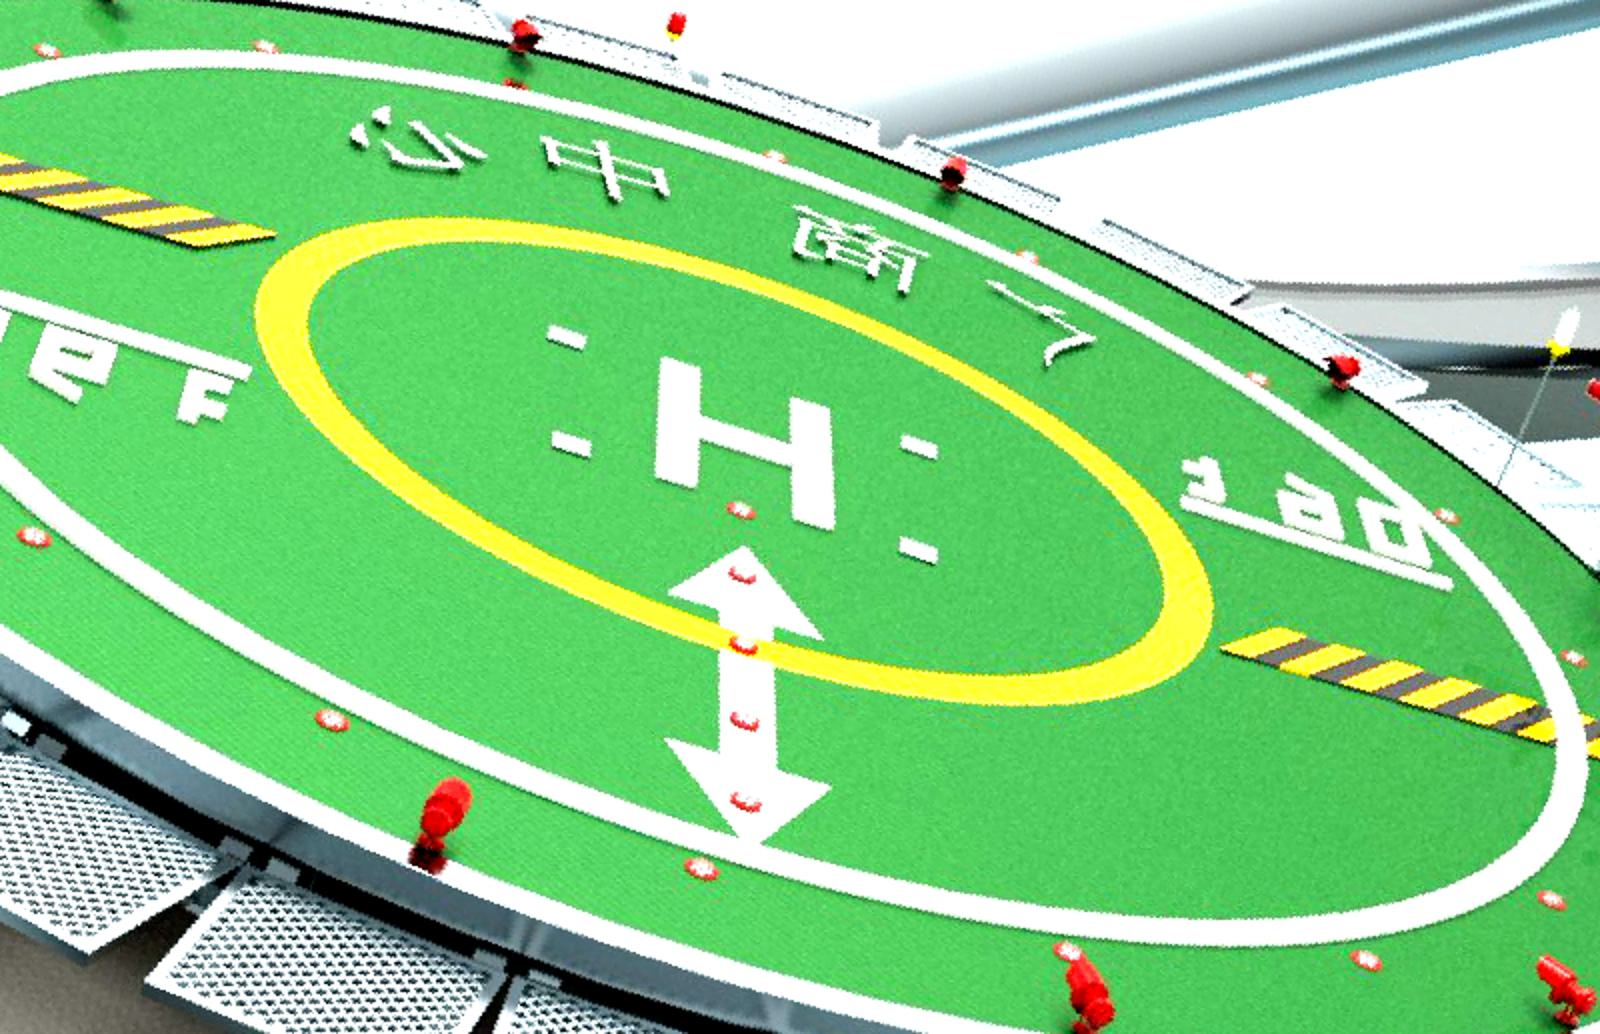Apron: (238, 152, 1236, 771)
